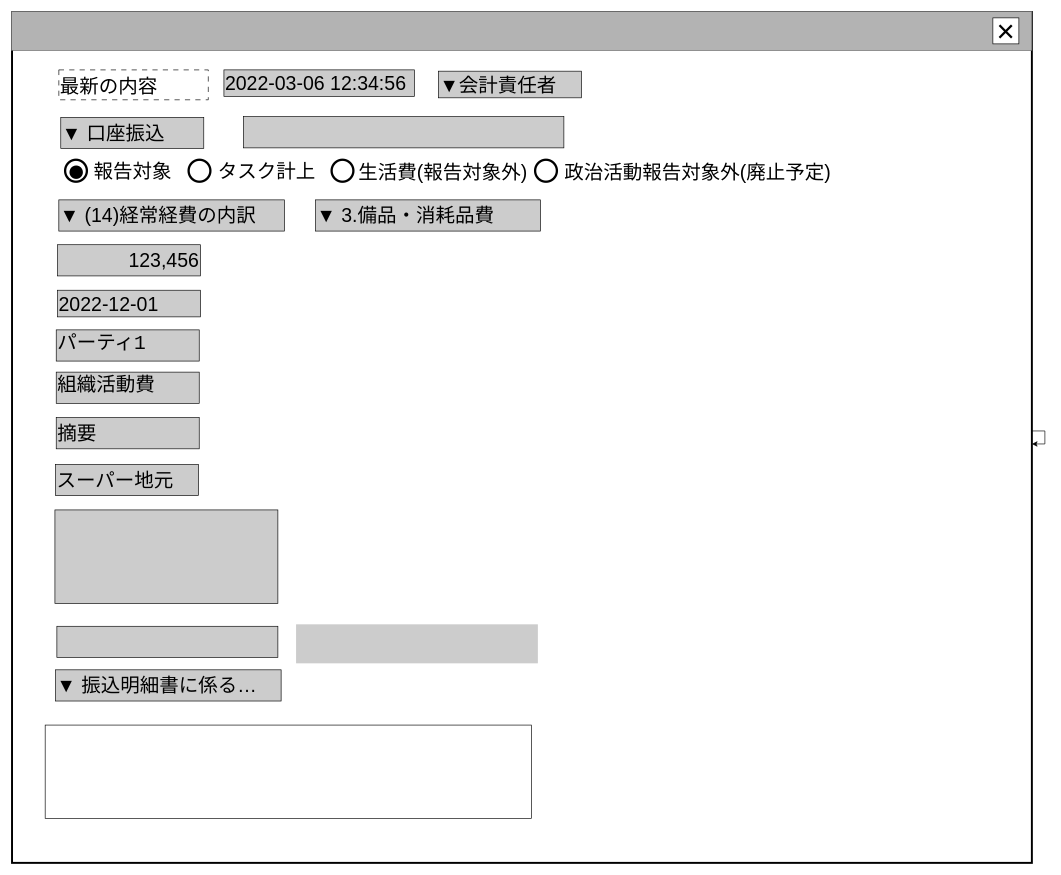
Some shapes in this 1061 by 875 pixel diagram are drawn without their labels. The centre of each missing label's shape, as x and y in pixels:
××信用金庫: (403,132)
☑交付金に係る支出: (417,643)
報告除外で処理されていますが、××という条文上の理由で報告するのが適当と思われます。: (288,771)
東京都千代田区霞が関: (166,556)
